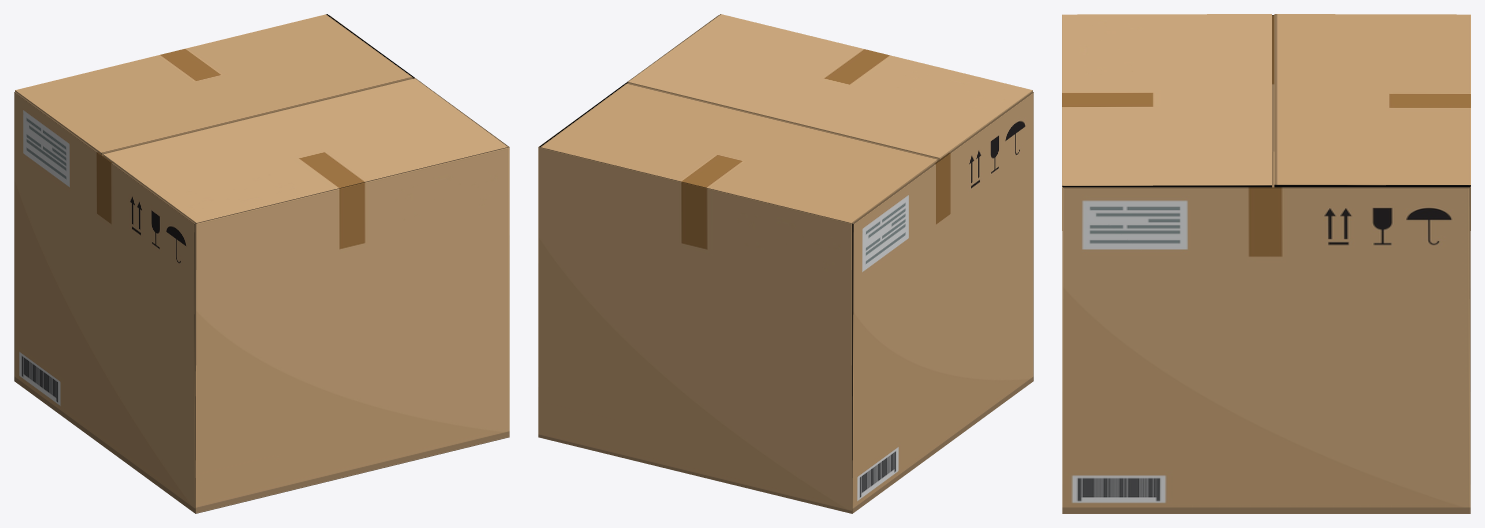
Rendered from cardboardBox.glb.
The picture shows the model from 3 angles, left to right: view 1: azimuth 30°, elevation 25°; view 2: azimuth 150°, elevation 25°; view 3: azimuth 270°, elevation 25°; orthographic projection. The views are drawn at different scales.
Visible parts, largest first — view 1: Box.Big; view 2: Box.Big; view 3: Box.Big.
Part boxes in pixels (x1,y1,x2,y2): Box.Big: [14, 14, 509, 513]; Box.Big: [538, 14, 1033, 513]; Box.Big: [1062, 14, 1470, 513].
Size of the model in its own units: 1.71 by 1.51 by 1.71.
Materials: 1 (1 with a texture image).
